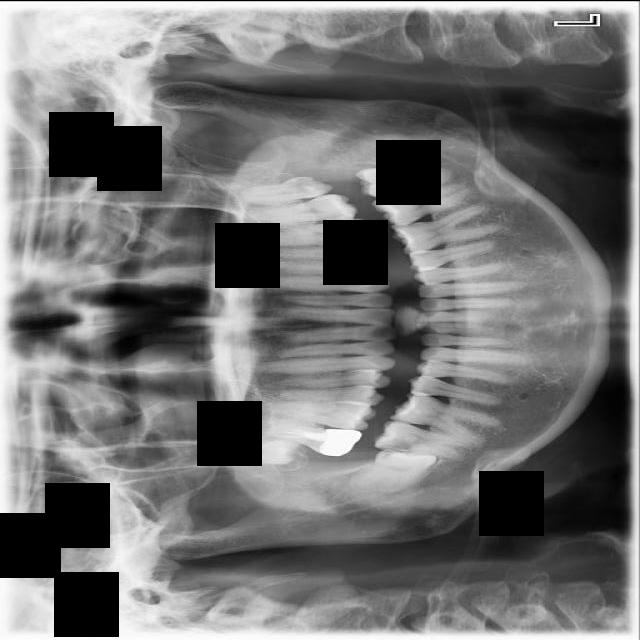3M ESPE Implant: (214, 437, 301, 468)
52: (391, 218, 445, 256), (309, 427, 362, 457), (288, 176, 311, 193), (381, 437, 410, 450), (405, 222, 416, 226)
73: (262, 416, 326, 450), (573, 14, 582, 26)
BioHorizons Implant: (242, 192, 358, 226)
BioLife Implant: (220, 169, 335, 214)
Biomet 3i Implant: (354, 151, 453, 200)
Blue Sky Bio Implant: (370, 180, 475, 230)
Caries: (261, 419, 363, 459)
Implant: (371, 416, 478, 463)
Keystone Dental Implant: (349, 447, 436, 495)
